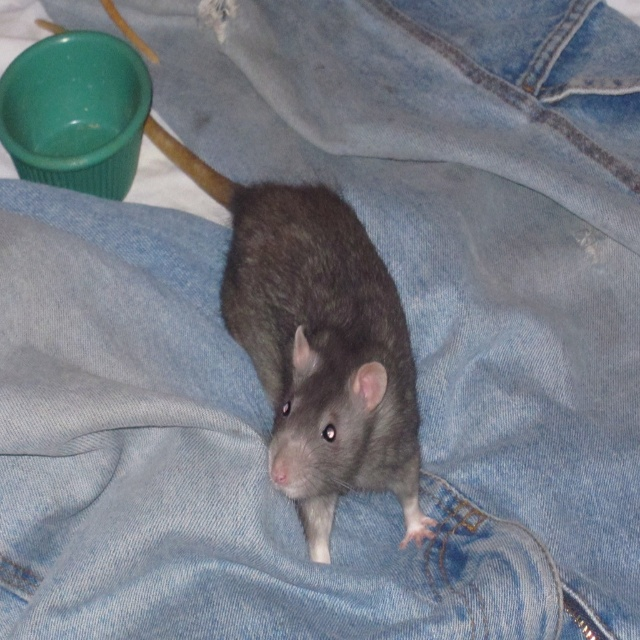Mouse: (34, 19, 439, 563)
